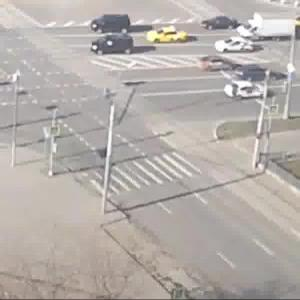car: (236, 13, 300, 46), (228, 63, 281, 84), (93, 32, 138, 55), (224, 82, 273, 99), (92, 15, 133, 35), (217, 36, 258, 56), (149, 29, 185, 46), (201, 53, 235, 70), (198, 14, 233, 30)
